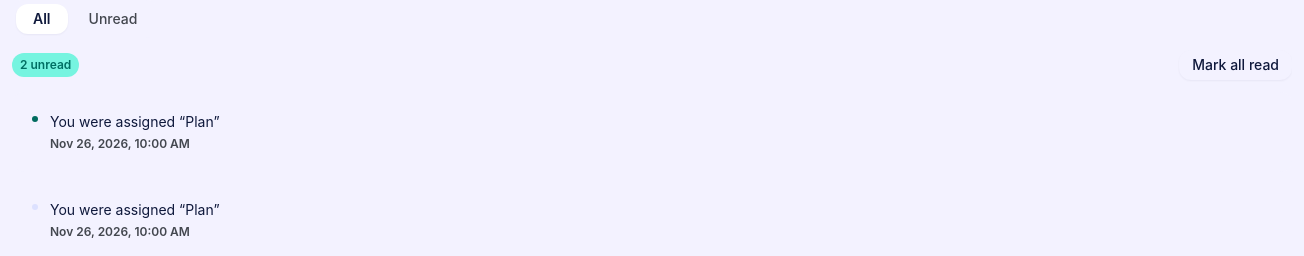
Inbox All and Unread switch (NAV-13) › defaults to All, loads Unread through the filter, and says so when there is none
The width and height of the screenshot is (1304, 256).
Expected: the number of links is 2, x1=12 y1=92 x2=1292 y2=172; x1=32 y1=201 x2=220 y2=239
Expected: the radio button labelled "All" is shown, x1=16 y1=4 x2=68 y2=34
What coordinates should you click on to do the following:
click the radio button labelled "Unread"
I would click on:
 (113, 19)
Its box is x1=72 y1=4 x2=154 y2=34.
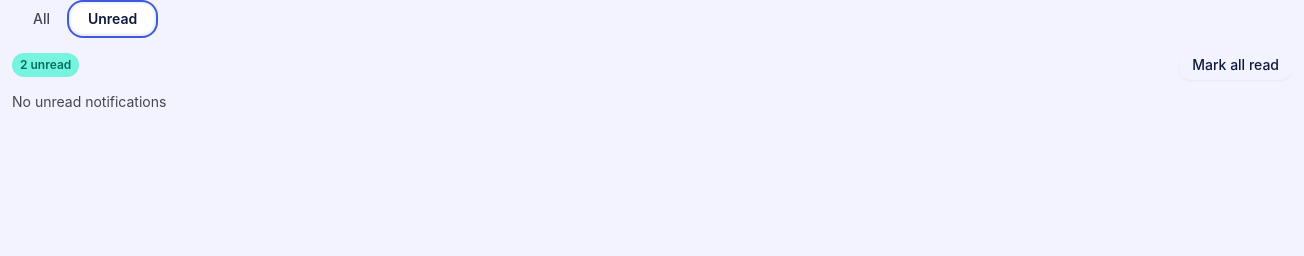
Now the text "No unread notifications" is shown, box x1=12 y1=93 x2=166 y2=110
